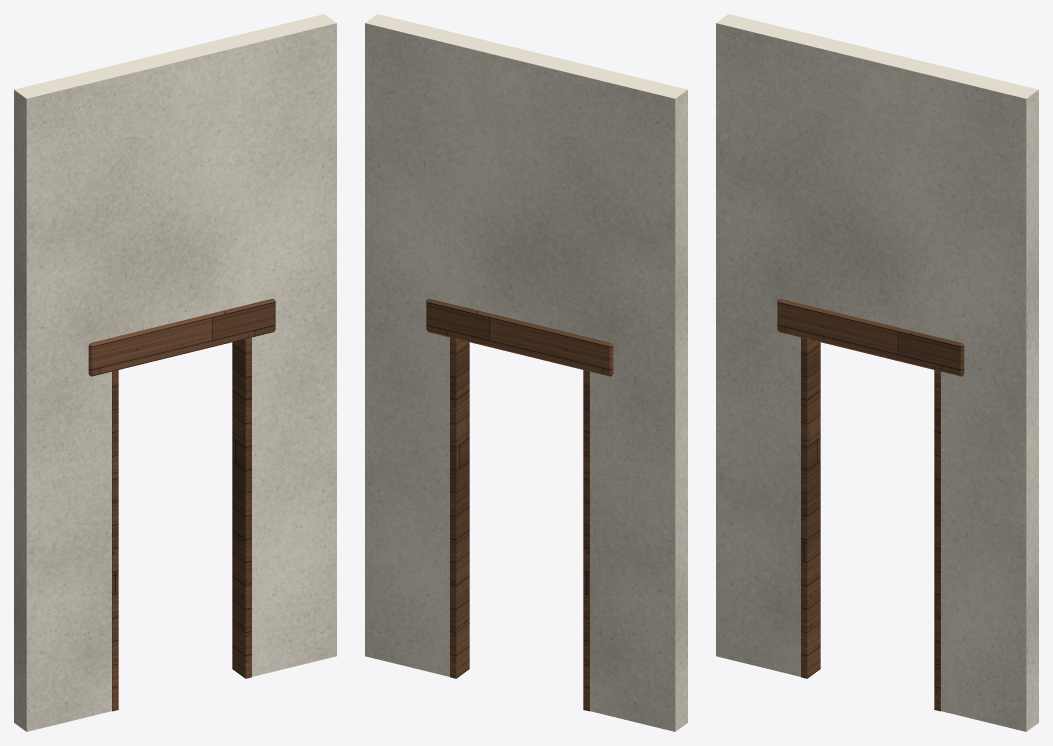
File: interior_wall_doorway.glb
3 renders of one model, left to right at view 1: azimuth 30°, elevation 25°; view 2: azimuth 150°, elevation 25°; view 3: azimuth 330°, elevation 25°, orthographic.
Parts seen in each view (by area): view 1: interior_wall_doorway_plaster, interior_wall_doorway_wood; view 2: interior_wall_doorway_plaster, interior_wall_doorway_wood; view 3: interior_wall_doorway_plaster, interior_wall_doorway_wood.
Part boxes in pixels (box(x1,y1,x2,y2)): interior_wall_doorway_plaster: box(14, 14, 336, 731); interior_wall_doorway_wood: box(88, 298, 275, 711); interior_wall_doorway_plaster: box(365, 14, 687, 731); interior_wall_doorway_wood: box(426, 298, 613, 711); interior_wall_doorway_plaster: box(716, 14, 1038, 731); interior_wall_doorway_wood: box(777, 298, 964, 711).
Size of the model in its own units: 2 by 3.9 by 0.18.
Materials: 2 (2 with a texture image).
